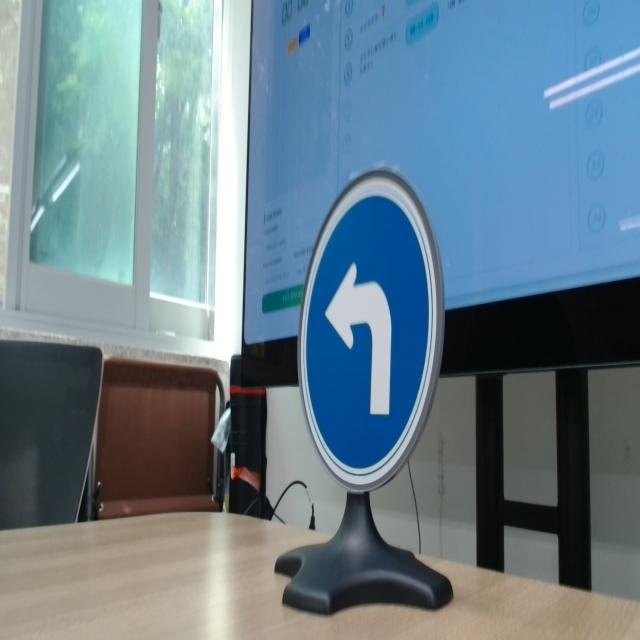left_direction: (286, 149, 464, 496)
